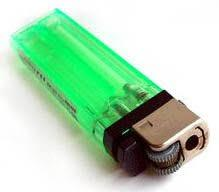lighter: (7, 7, 210, 179)
